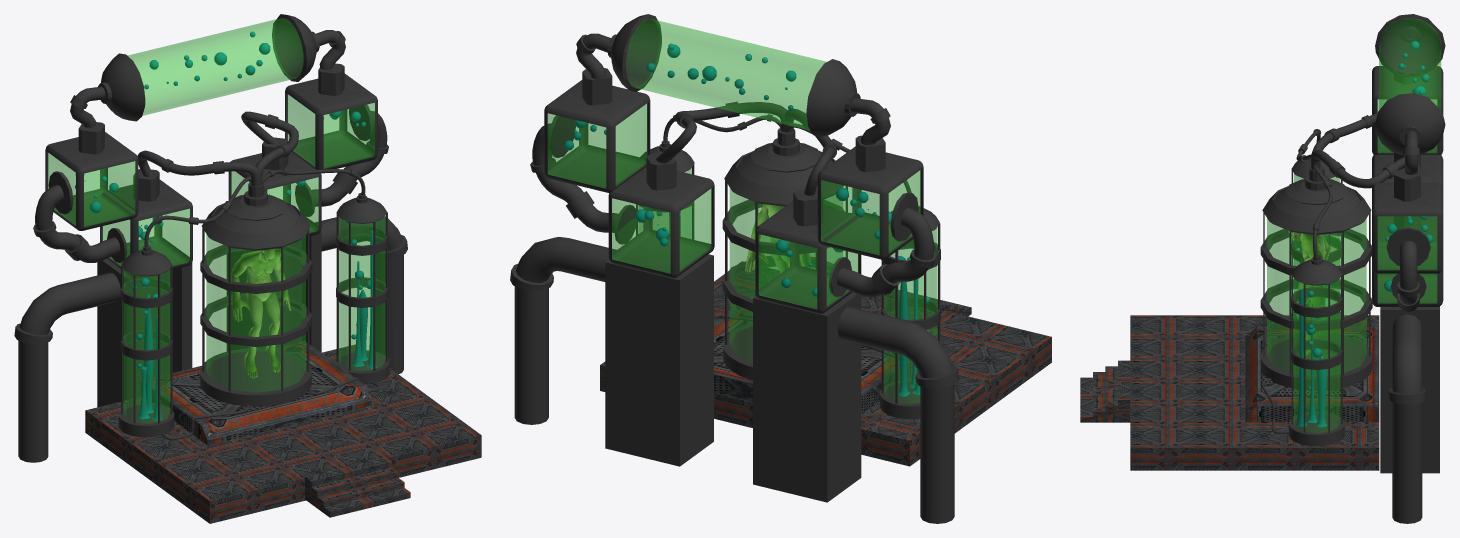
The model's file is bio.FBX.
The picture shows the model from 3 angles, left to right: view 1: azimuth 30°, elevation 25°; view 2: azimuth 150°, elevation 25°; view 3: azimuth 270°, elevation 25°; orthographic projection. The views are drawn at different scales.
Visible parts, largest first — view 1: biohazard; view 2: biohazard; view 3: biohazard.
Part boxes in pixels (left/top/right/bottom): biohazard: left=14, top=14, right=481, bottom=523; biohazard: left=510, top=14, right=1051, bottom=523; biohazard: left=1080, top=14, right=1445, bottom=523.
Bounding box in the file's own units: 613 × 567 × 498.
Materials: 6 (6 with a texture image).
